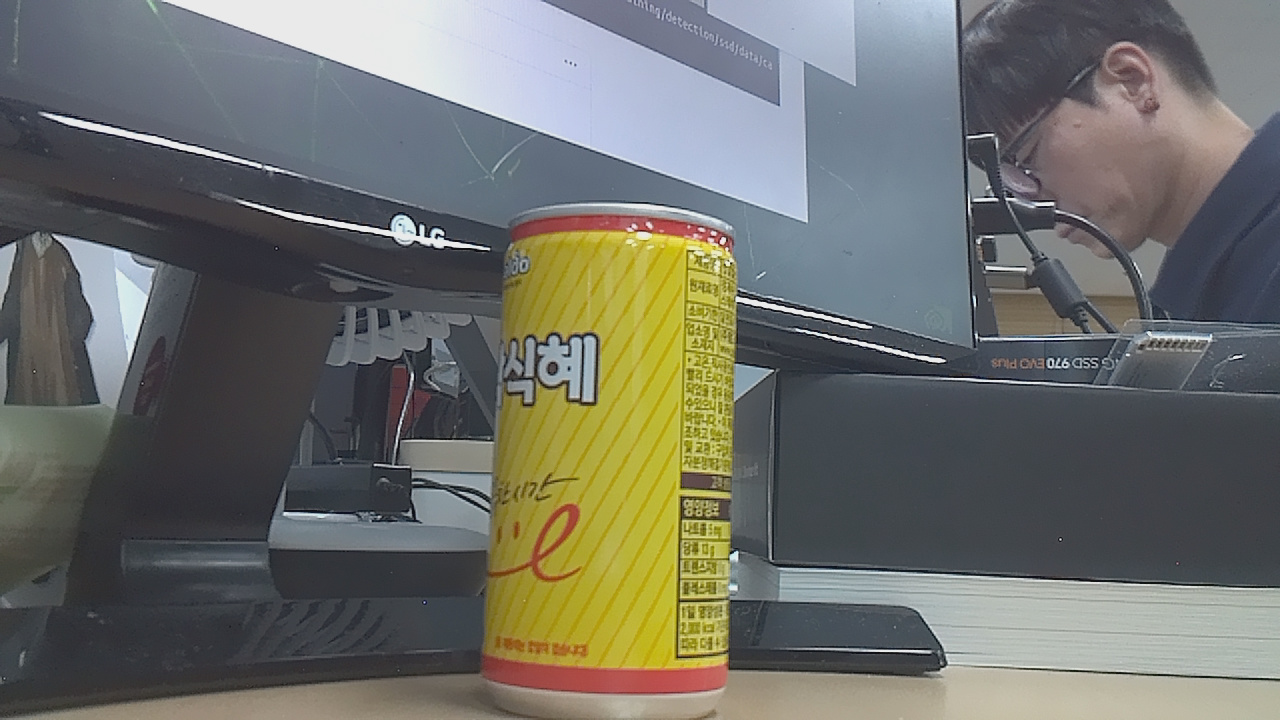paldo shikhye: (470, 209, 751, 720)
